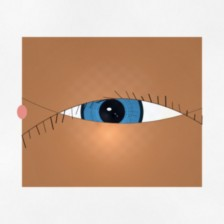pinguecula_lesion: (149, 106, 188, 138)
